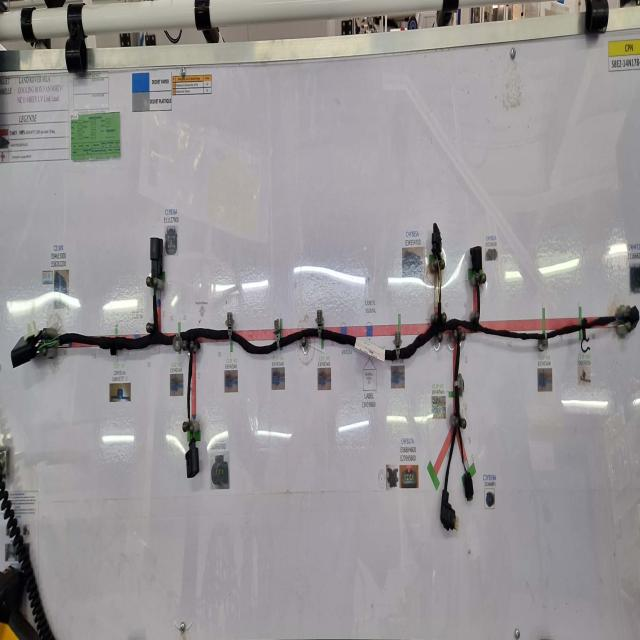Clip: (172, 319, 187, 352), (579, 308, 590, 352), (539, 303, 547, 353), (393, 315, 401, 364), (226, 309, 235, 352), (316, 308, 324, 351), (272, 319, 280, 352), (460, 354, 468, 380), (110, 347, 118, 357)
Connector: (10, 335, 41, 371), (440, 491, 459, 534), (149, 231, 163, 281), (185, 437, 200, 480), (432, 221, 442, 261), (463, 470, 474, 506), (470, 242, 482, 272), (628, 309, 637, 336)
Gape: (41, 330, 64, 354), (435, 251, 442, 305), (608, 313, 627, 331), (185, 417, 197, 442), (153, 275, 158, 298), (476, 277, 480, 295)
Info: (353, 338, 385, 364)
MHEV_N11_Cable: (51, 293, 614, 519)
